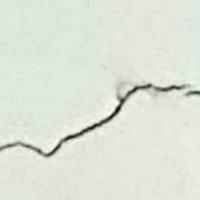crack: (0, 69, 199, 173)
